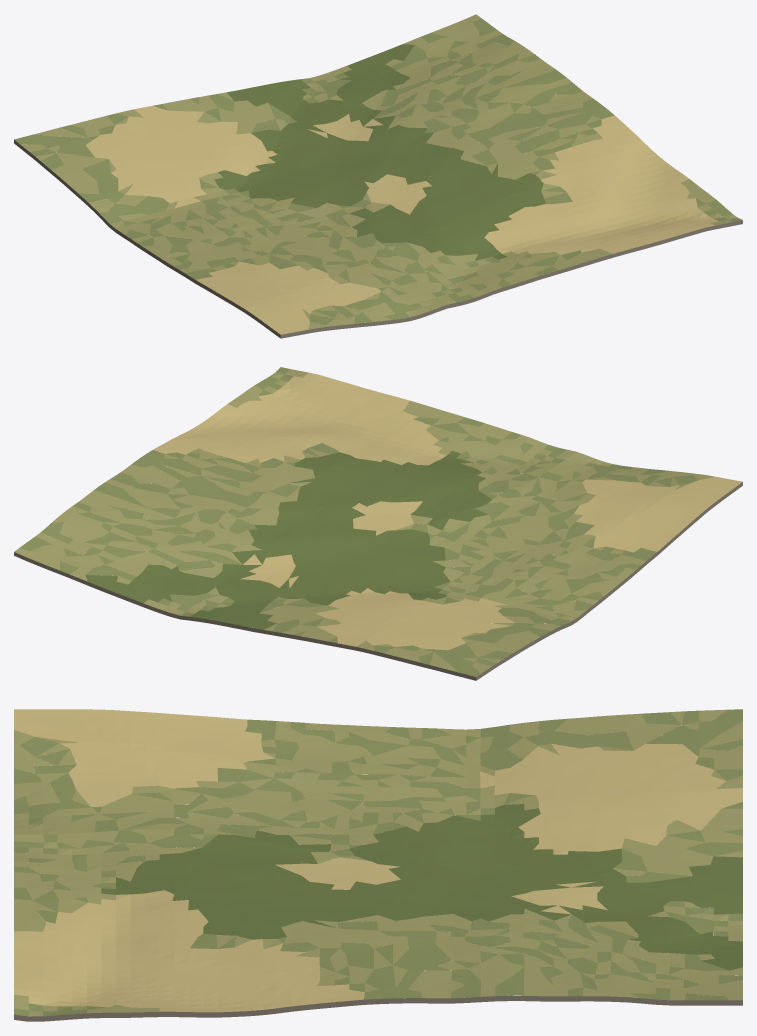
Rendered from parca_+3_+0-uzak.glb.
3 views of the same model, one above another, from view 1: azimuth 30°, elevation 25°; view 2: azimuth 150°, elevation 25°; view 3: azimuth 270°, elevation 25° (orthographic). The views are drawn at different scales.
Visible parts, largest first — view 1: parca_+3_+0_arazi_uzak; view 2: parca_+3_+0_arazi_uzak; view 3: parca_+3_+0_arazi_uzak.
Part boxes in pixels (left/top/right/bottom): parca_+3_+0_arazi_uzak: left=14, top=14, right=742, bottom=338; parca_+3_+0_arazi_uzak: left=14, top=367, right=742, bottom=680; parca_+3_+0_arazi_uzak: left=14, top=709, right=742, bottom=1021.
Size of the model in its own units: 1000 by 71.33 by 1000.
